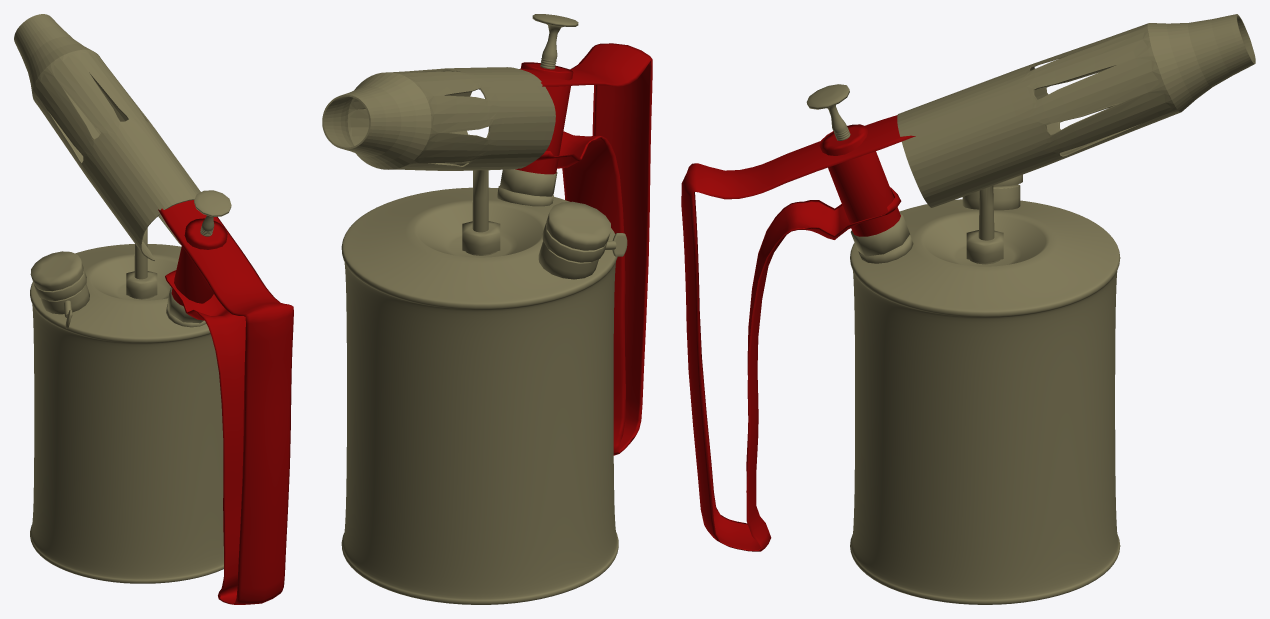
File: blowtorchexport.fbx
The picture shows the model from 3 angles, left to right: view 1: azimuth 30°, elevation 25°; view 2: azimuth 150°, elevation 25°; view 3: azimuth 270°, elevation 25°; orthographic projection. The views are drawn at different scales.
Visible parts, largest first — view 1: pCylinder3, pCube1, pPlane18, pCylinder2, polySurface4, polySurface3, pCylinder9, pCylinder10, polySurface6; view 2: pCylinder3, pPlane18, pCube1, pCylinder2, polySurface4, polySurface6, pCylinder9, pCylinder10, polySurface3, polySurface5; view 3: pCylinder3, pPlane18, pCube1, polySurface4, polySurface3, polySurface6, pCylinder2, pCylinder9, pCylinder10.
Boxes of the visible parts, box(x1,y1,x2,y2) form: pCylinder3: box(30, 244, 223, 583); pCube1: box(158, 200, 293, 604); pPlane18: box(14, 14, 200, 260); pCylinder2: box(30, 251, 89, 314); polySurface4: box(171, 218, 227, 305); polySurface3: box(194, 190, 231, 236); pCylinder9: box(126, 271, 157, 299); pCylinder10: box(134, 228, 147, 279); polySurface6: box(167, 287, 203, 323); pCylinder3: box(341, 187, 618, 604); pPlane18: box(322, 67, 555, 170); pCube1: box(519, 43, 652, 455); pCylinder2: box(538, 201, 611, 279); polySurface4: box(515, 62, 573, 174); polySurface6: box(500, 169, 557, 196); pCylinder9: box(462, 221, 500, 255); pCylinder10: box(444, 161, 488, 232); polySurface3: box(532, 14, 578, 69); polySurface5: box(497, 186, 553, 206); pCylinder3: box(850, 199, 1120, 604); pPlane18: box(897, 14, 1255, 207); pCube1: box(681, 115, 915, 551); polySurface4: box(819, 124, 900, 236); polySurface3: box(806, 84, 850, 140); polySurface6: box(850, 213, 909, 256); pCylinder2: box(962, 174, 1022, 210); pCylinder9: box(966, 230, 1003, 264); pCylinder10: box(978, 186, 994, 240).
Bounding box in the file's own units: 1.11 × 2.31 × 2.26.
